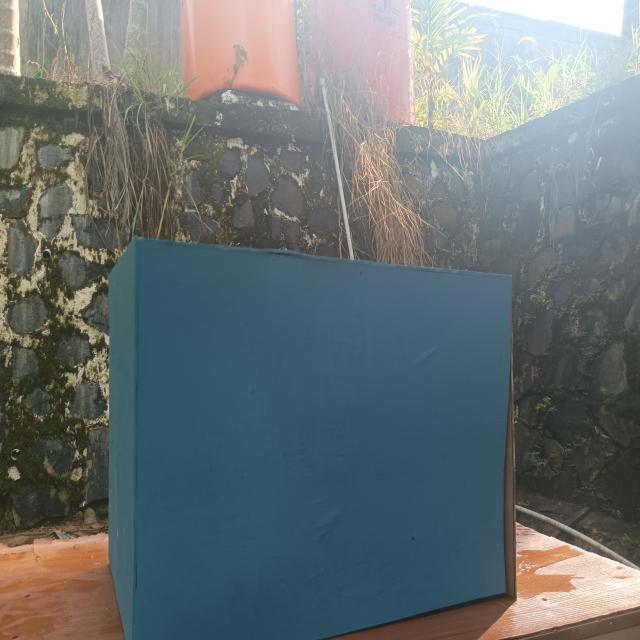blue_box: (73, 186, 538, 640)
